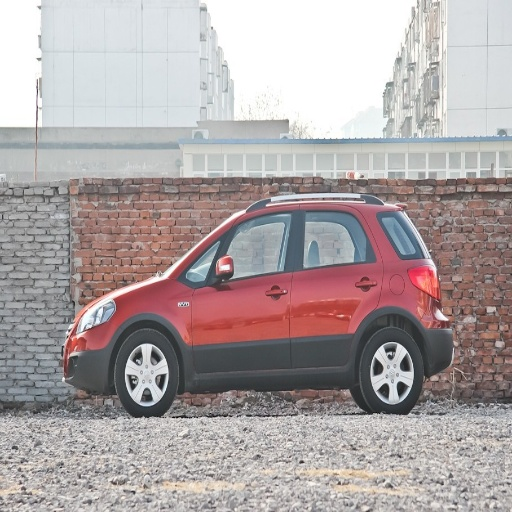back_glass: (380, 212, 422, 257)
back_left_door: (292, 204, 382, 367)
front_left_door: (189, 204, 298, 373)
